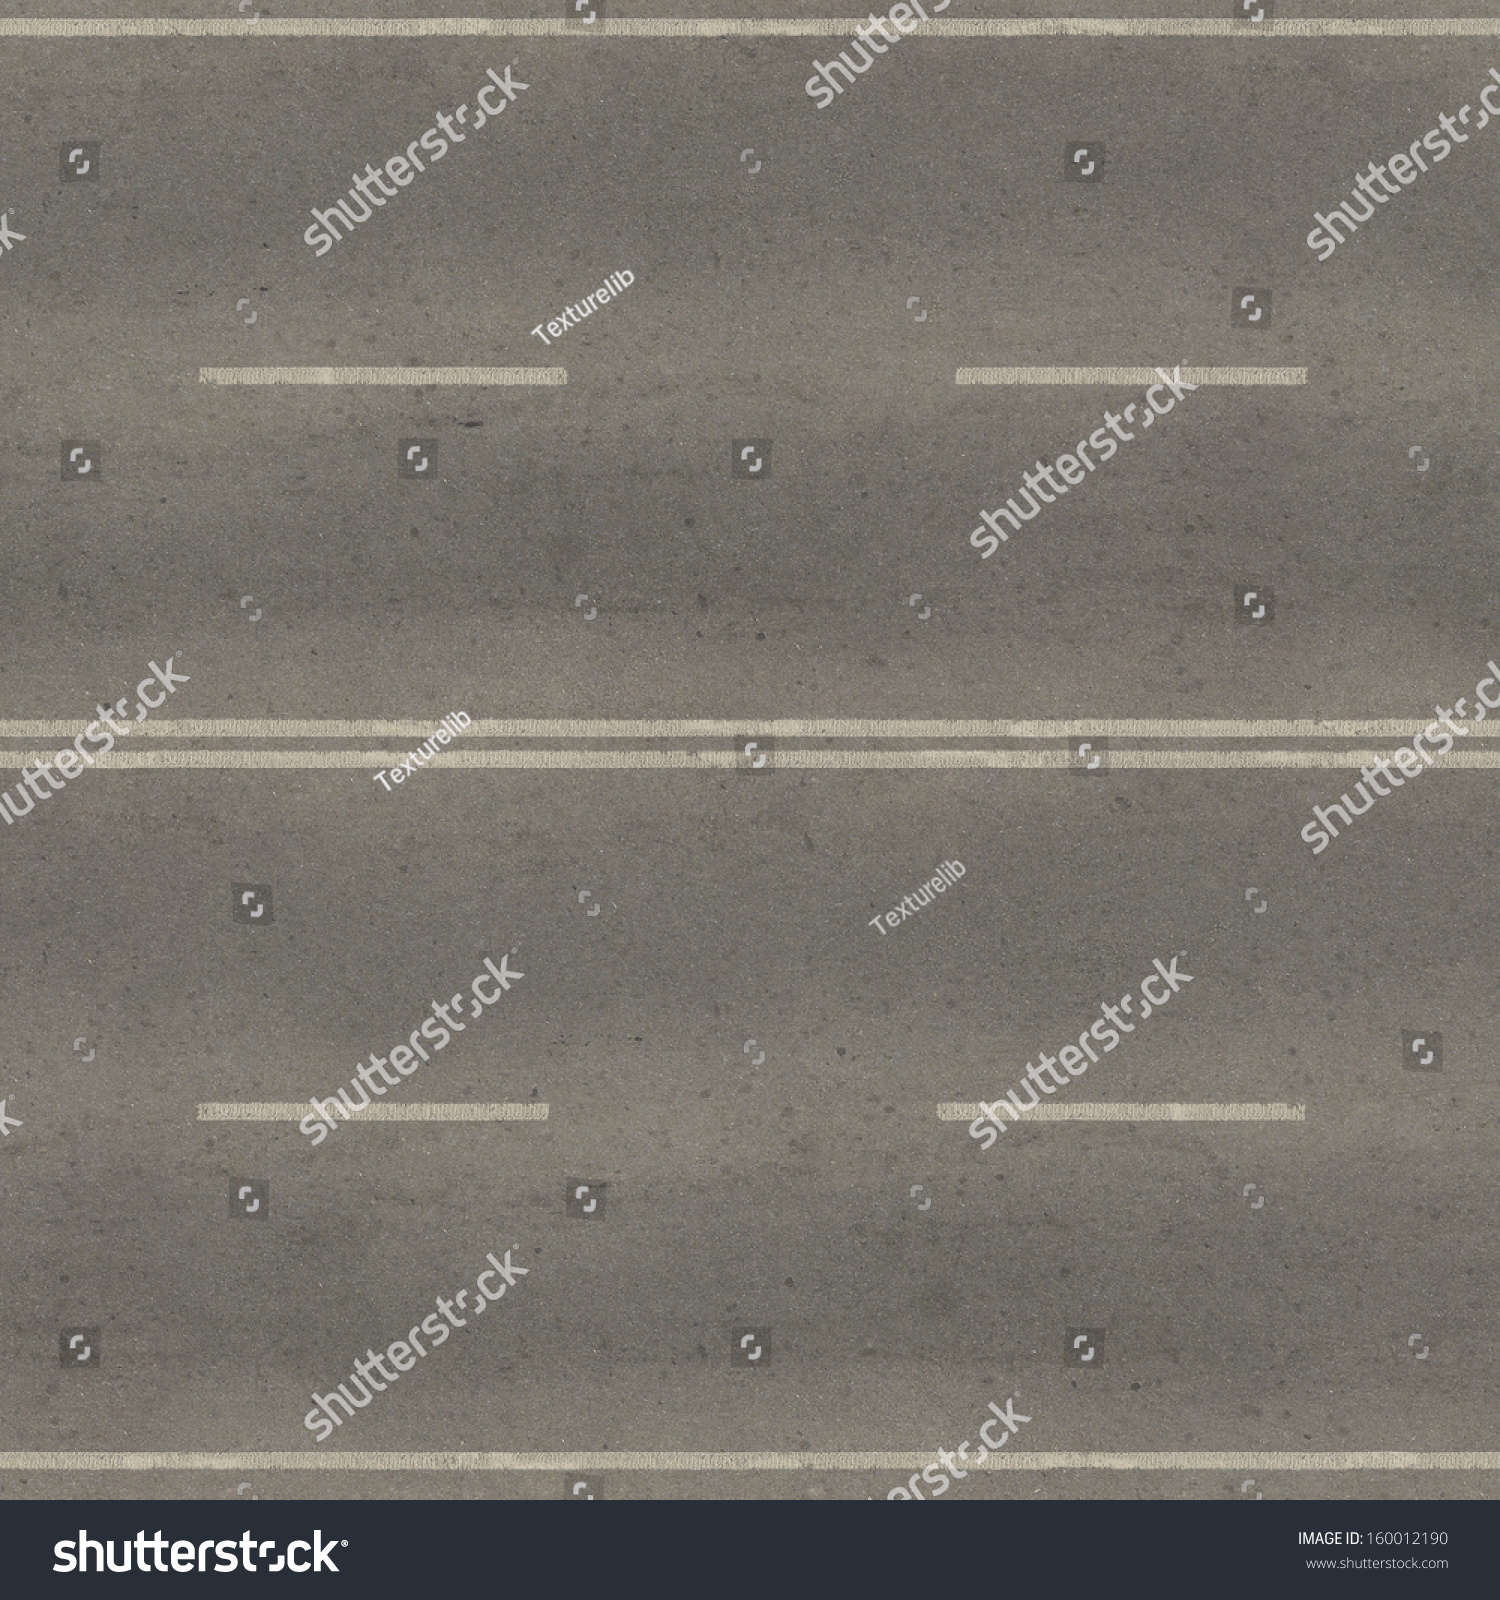LaneMark: (7, 1451, 1500, 1473), (1, 719, 1500, 737), (6, 18, 1500, 37), (1, 753, 1493, 770), (195, 362, 560, 390), (945, 359, 1310, 386), (933, 1100, 1305, 1124), (197, 1100, 564, 1124)
